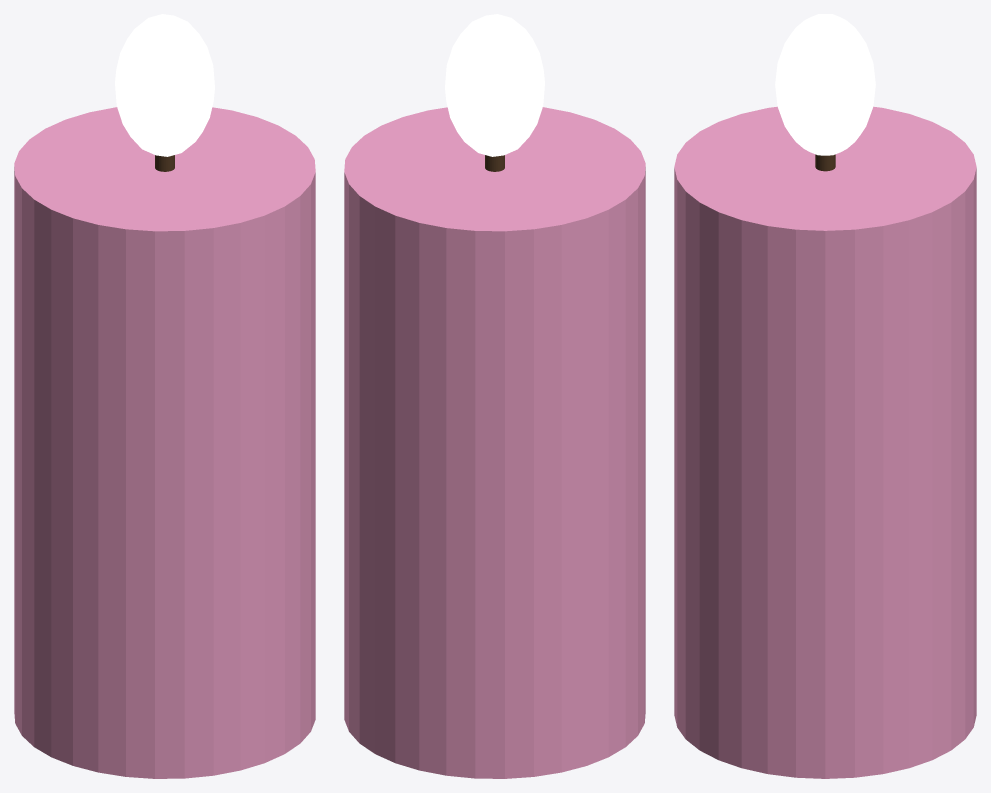
3 renders of one model, left to right at view 1: azimuth 30°, elevation 25°; view 2: azimuth 150°, elevation 25°; view 3: azimuth 270°, elevation 25°, orthographic.
Visible parts, largest first — view 1: Candle_Body, Flame; view 2: Candle_Body, Flame; view 3: Candle_Body, Flame.
Boxes of the visible parts, box(x1,y1,x2,y2) form: Candle_Body: box(14, 107, 315, 778); Flame: box(115, 14, 214, 156); Candle_Body: box(344, 107, 645, 778); Flame: box(445, 14, 544, 156); Candle_Body: box(674, 106, 976, 778); Flame: box(775, 14, 875, 155).
Size of what is drawn, in the model's own units: 0.3 by 0.765 by 0.3.
